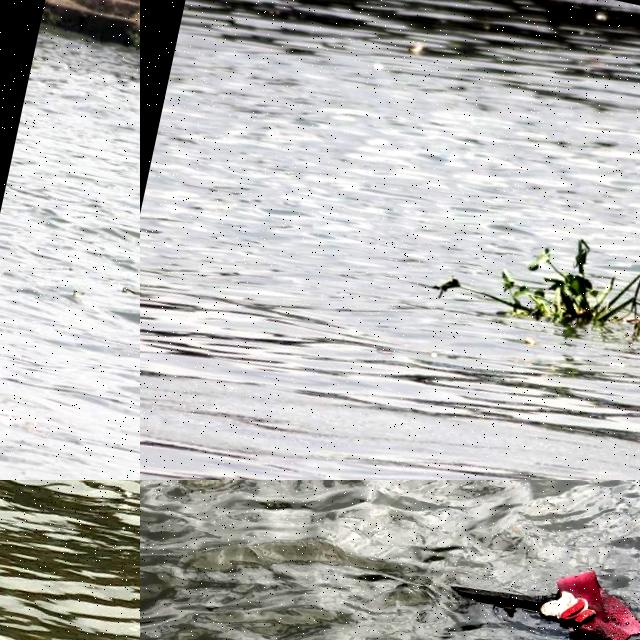water-hyacinth: (428, 219, 640, 347)
